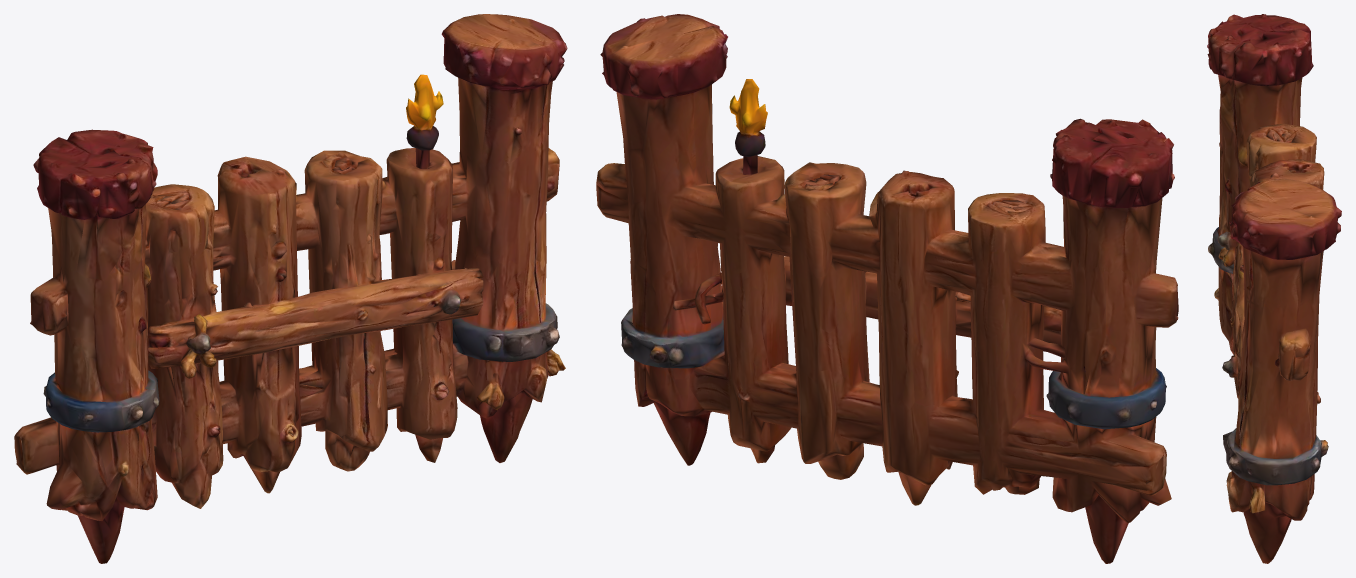
Rendered from tripo-palicada154.glb.
3 renders of one model, left to right at view 1: azimuth 30°, elevation 25°; view 2: azimuth 150°, elevation 25°; view 3: azimuth 270°, elevation 25°, orthographic. The views are drawn at different scales.
Parts seen in each view (by area): view 1: tripo_node_33bf973a-4d6e-414c-ba71-18f77c98eadc; view 2: tripo_node_33bf973a-4d6e-414c-ba71-18f77c98eadc; view 3: tripo_node_33bf973a-4d6e-414c-ba71-18f77c98eadc.
Boxes of the visible parts, x1,y1,x2,y2 form: tripo_node_33bf973a-4d6e-414c-ba71-18f77c98eadc: (14,14,567,563); tripo_node_33bf973a-4d6e-414c-ba71-18f77c98eadc: (596,14,1178,563); tripo_node_33bf973a-4d6e-414c-ba71-18f77c98eadc: (1207,14,1341,563).
Bounding box in the file's own units: 0.9803 × 0.7354 × 0.2419.
Materials: 1 (1 with a texture image).
